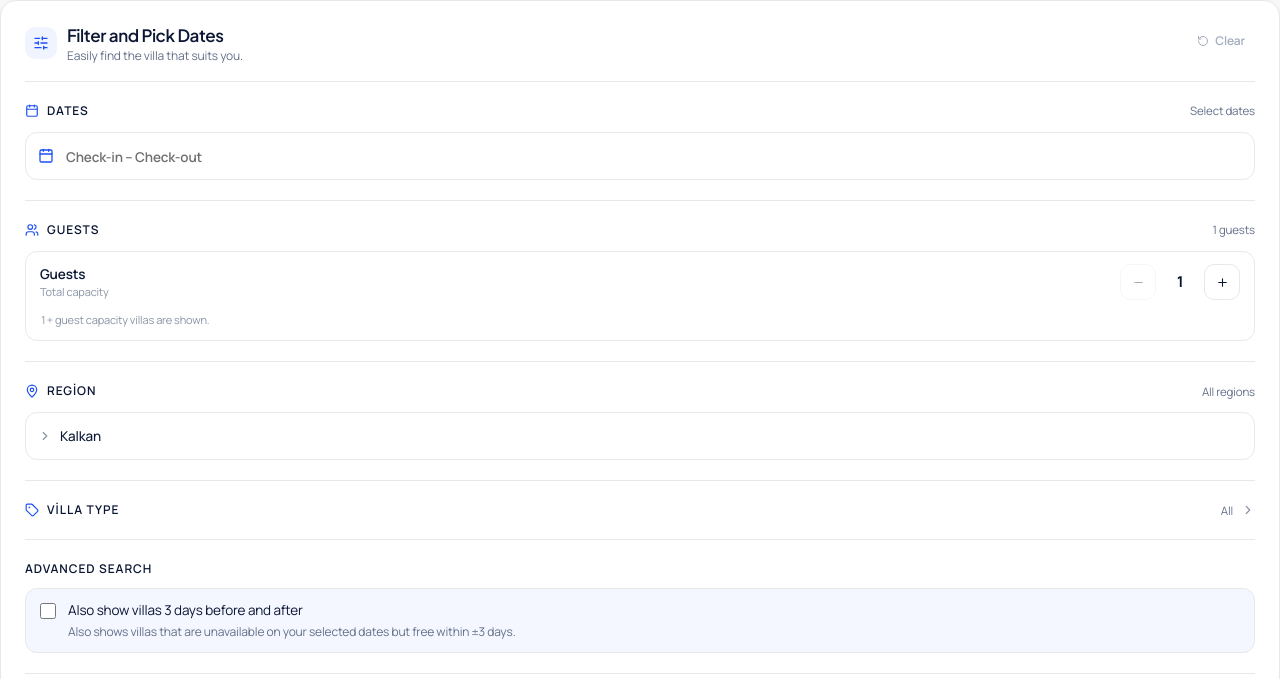
Scenario: Villa tipi adı locale-aware › 33) FilterSidebar /en → çözülmüş tip adını gösterir
The width and height of the screenshot is (1280, 679).
Click the button "Villa Type All" at {"x": 83, "y": 510}, box [25,501,1255,519]
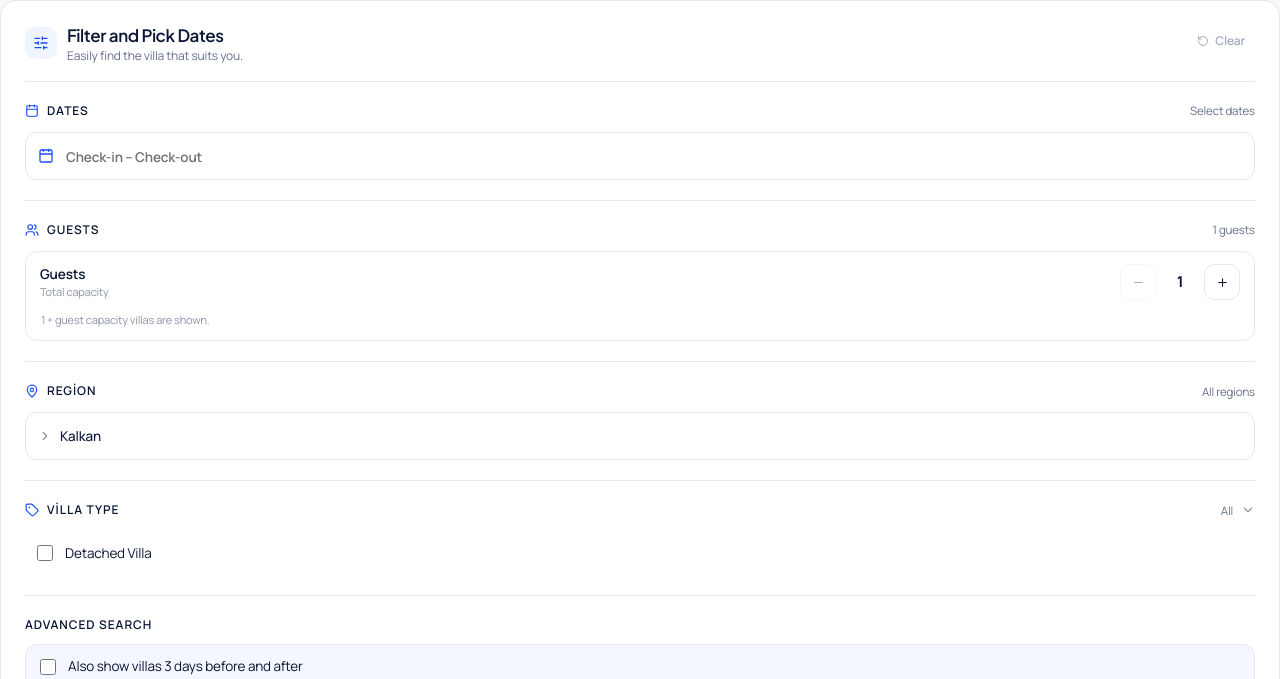
Expected: the text "Detached Villa" is shown, [65,543,152,564]
